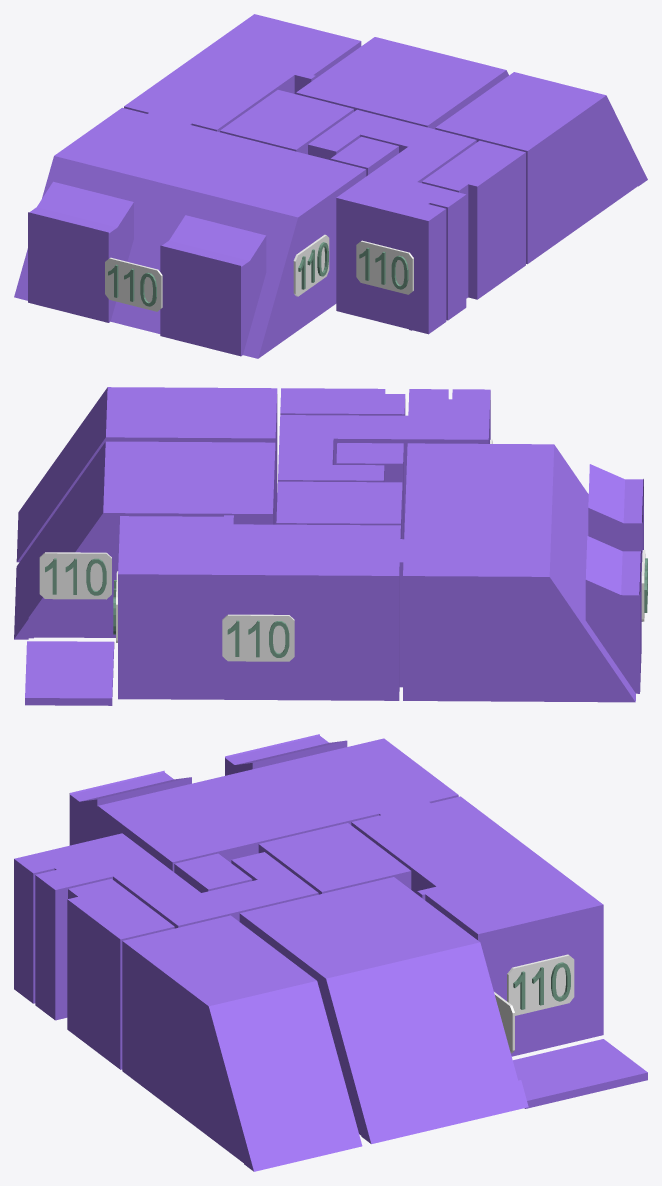
3 views of the same model, one above another, from view 1: azimuth 30°, elevation 25°; view 2: azimuth 150°, elevation 25°; view 3: azimuth 270°, elevation 25° (orthographic). The views are drawn at different scales.
Visible parts, largest first — view 1: g_0, g_5, g_3, g_1, g_2, g_7, g_4, g_28, g_32, g_6, g_12; view 2: g_0, g_1, g_2, g_3, g_5, g_8, g_4, g_7, g_20, g_16, g_6; view 3: g_2, g_3, g_0, g_1, g_5, g_7, g_4, g_8, g_24, g_6, g_20.
Part boxes in pixels (x1,y1,x2,y2): g_0: (14, 107, 366, 358); g_5: (308, 109, 476, 334); g_3: (435, 72, 647, 264); g_1: (124, 14, 361, 132); g_2: (296, 37, 508, 129); g_7: (422, 140, 525, 299); g_4: (220, 90, 353, 154); g_28: (356, 240, 413, 294); g_32: (105, 257, 162, 311); g_6: (330, 136, 398, 176); g_12: (293, 234, 329, 296); g_0: (401, 443, 643, 702); g_1: (118, 515, 402, 700); g_2: (14, 441, 275, 639); g_3: (16, 387, 277, 562); g_5: (278, 389, 490, 538); g_8: (25, 641, 114, 705); g_4: (276, 481, 402, 538); g_7: (280, 388, 405, 415); g_20: (39, 552, 111, 599); g_16: (222, 614, 294, 661); g_6: (336, 443, 403, 539); g_2: (239, 877, 528, 1144); g_3: (122, 915, 362, 1171); g_0: (69, 734, 458, 871); g_1: (351, 796, 603, 1056); g_5: (14, 833, 318, 1020); g_7: (67, 879, 174, 1069); g_4: (258, 823, 411, 894); g_8: (513, 1039, 647, 1108); g_24: (507, 954, 574, 1015); g_6: (174, 853, 252, 892); g_20: (494, 992, 514, 1053).
Bounding box in the file's own units: 14.04 × 2.71 × 11.21.
